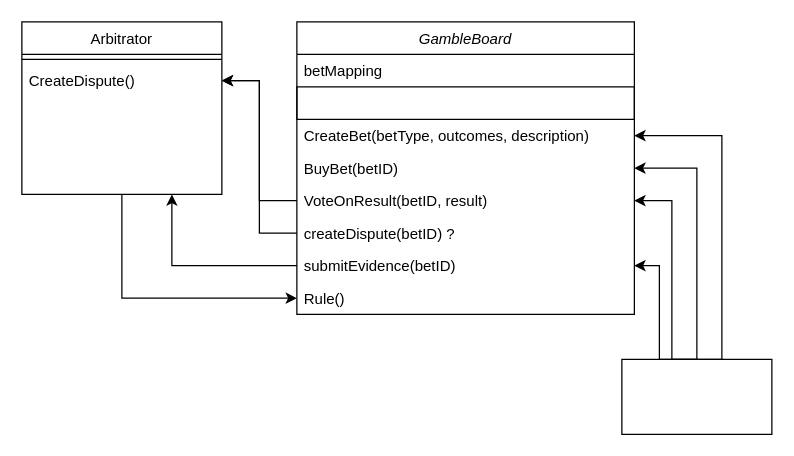
The diagram is 794 pixels wide and 456 high, and some of its shapes have lost their labels. The shapes that lost their labels are listed below. From the top down, each one's centre as x and y in pixels, then its label:
the point at 465,102: betType
the point at 696,396: Players
